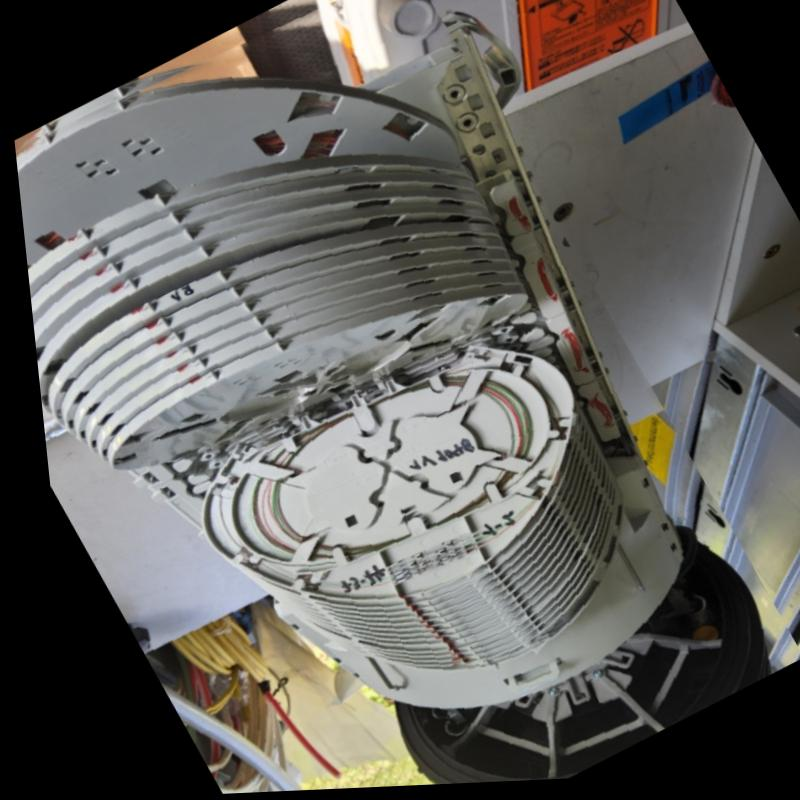NT-Muffen: (12, 60, 788, 788)
